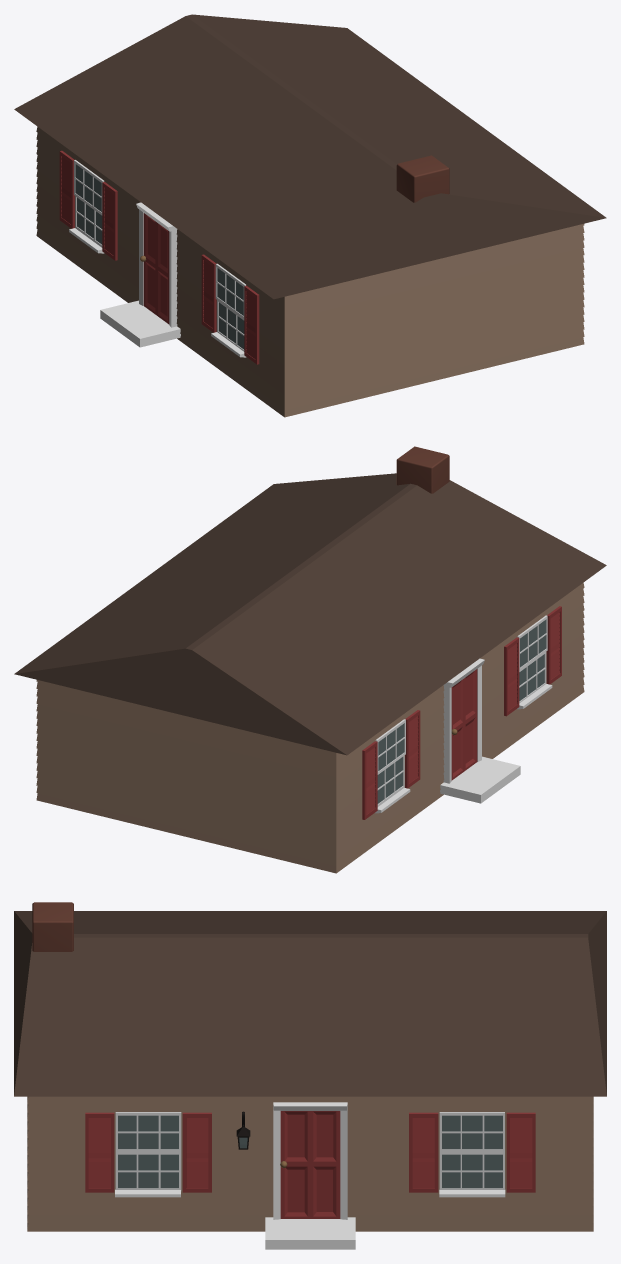
The model's file is doggo_house.fbx.
3 renders of one model, top to bottom at view 1: azimuth 30°, elevation 25°; view 2: azimuth 150°, elevation 25°; view 3: azimuth 270°, elevation 25°, orthographic. The views are drawn at different scales.
Visible parts, largest first — view 1: new_base, front_door, window_panel_r (×2), window_panel_l (×2), back_door_stoop, chimney1, front_door_frame, window_glass1 (×2), window_glass (×2), window_boxes; view 2: new_base, front_door, window_panel_l (×2), window_panel_r (×2), back_door_stoop, chimney1, front_door_frame, window_glass (×2), window_glass1 (×2); view 3: new_base, front_door, window_panel_r (×2), window_panel_l (×2), window_glass (×2), window_glass1 (×2), front_door_stoop, front_door_frame, window_boxes (×2), chimney1, window_boxes1 (×2), sill_4 (+1 smaller).
Boxes of the visible parts, <box> form: new_base: <box>14,14,606,417</box>; front_door: <box>143,213,169,324</box>; window_panel_r (×2): <box>102,182,259,364</box>; window_panel_l (×2): <box>59,150,216,332</box>; back_door_stoop: <box>100,300,180,347</box>; chimney1: <box>396,155,449,202</box>; front_door_frame: <box>136,202,177,327</box>; window_glass1 (×2): <box>77,197,244,349</box>; window_glass (×2): <box>75,164,243,315</box>; window_boxes: <box>215,263,245,319</box>; new_base: <box>14,473,606,873</box>; front_door: <box>451,669,477,780</box>; window_panel_l (×2): <box>362,637,519,819</box>; window_panel_r (×2): <box>405,606,561,788</box>; back_door_stoop: <box>440,756,520,803</box>; chimney1: <box>396,446,449,493</box>; front_door_frame: <box>443,658,484,783</box>; window_glass (×2): <box>378,619,546,770</box>; window_glass1 (×2): <box>377,654,544,803</box>; new_base: <box>14,911,606,1231</box>; front_door: <box>280,1111,340,1218</box>; window_panel_r (×2): <box>182,1112,535,1192</box>; window_panel_l (×2): <box>85,1112,438,1192</box>; window_glass (×2): <box>118,1115,502,1149</box>; window_glass1 (×2): <box>118,1154,502,1188</box>; front_door_stoop: <box>265,1217,355,1249</box>; front_door_frame: <box>273,1102,347,1219</box>; window_boxes (×2): <box>115,1112,504,1152</box>; chimney1: <box>32,902,73,951</box>; window_boxes1 (×2): <box>115,1152,504,1190</box>; sill_4: <box>439,1190,505,1197</box>.
Size of the model in its own units: 46.03 by 23.96 by 54.47.
